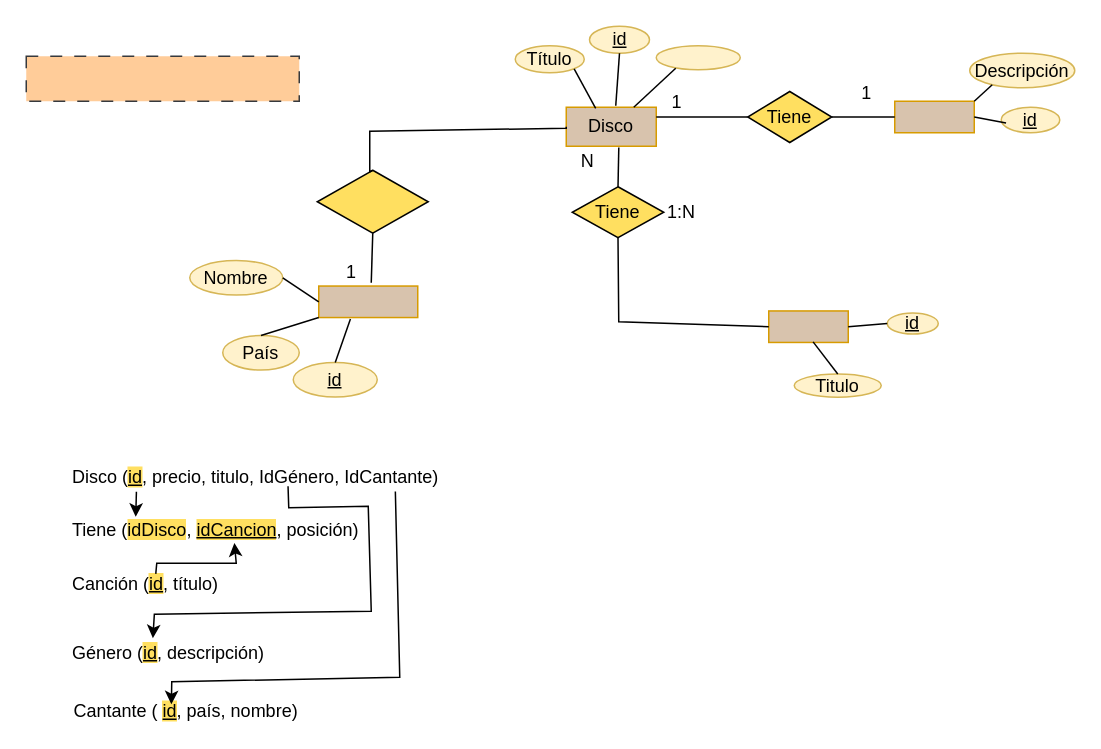
The diagram is 1101 pixels wide and 749 high, and some of its shapes have lost their labels. Each missing label, with the box of its shape:
Canción: (767, 309, 848, 342)
Cantante: (317, 285, 418, 318)
Género: (893, 100, 974, 133)
Pertenece: (316, 169, 428, 233)
Precio: (655, 44, 740, 70)
Tienda de Discos: (25, 55, 299, 101)
